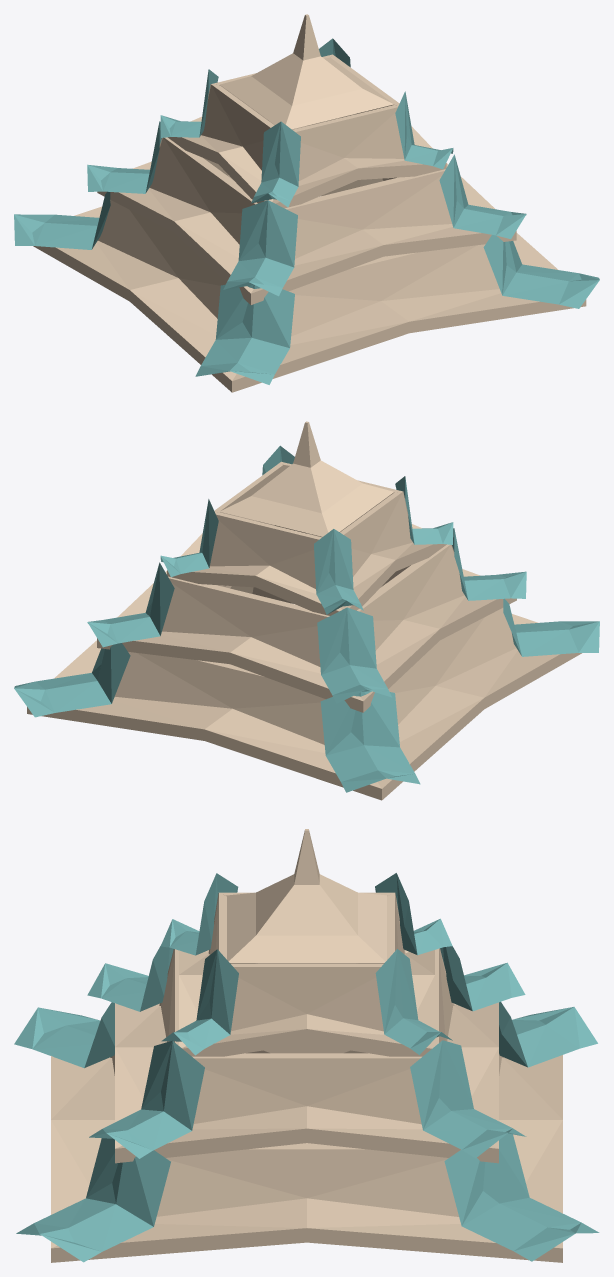
File: layered_roof.fbx
3 views of the same model, one above another, from view 1: azimuth 30°, elevation 25°; view 2: azimuth 150°, elevation 25°; view 3: azimuth 270°, elevation 25° (orthographic). The views are drawn at different scales.
Visible parts, largest first — view 1: layered_roof; view 2: layered_roof; view 3: layered_roof.
Boxes of the visible parts, x1,y1,x2,y2 form: layered_roof: [14, 14, 599, 392]; layered_roof: [14, 421, 599, 800]; layered_roof: [14, 829, 599, 1262].
Size of the model in its own units: 183 by 112 by 183.
